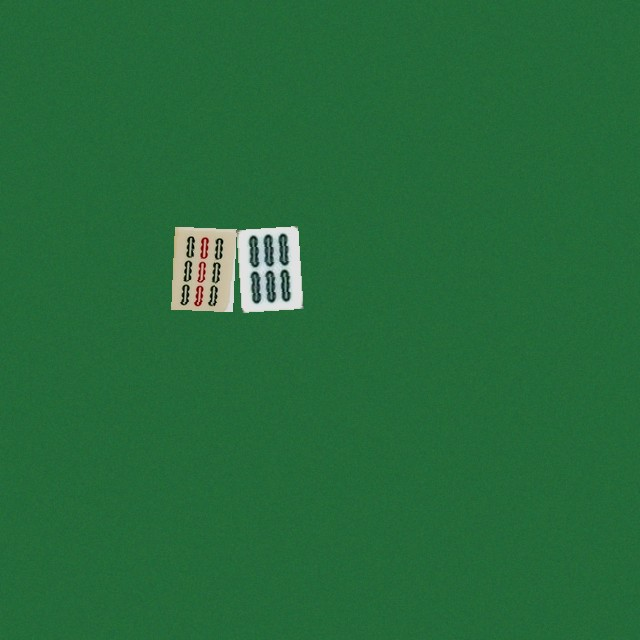tile: (171, 226, 233, 309), (236, 226, 298, 309)
